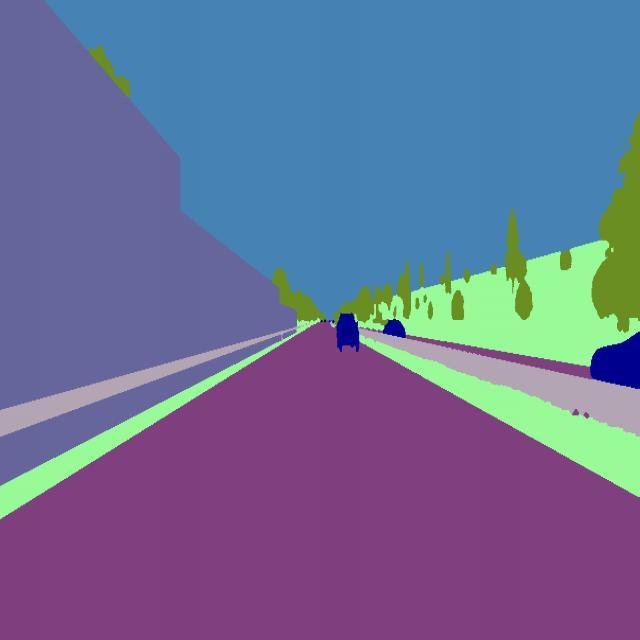safe: (582, 309, 636, 392), (331, 302, 363, 358), (380, 315, 410, 339)
